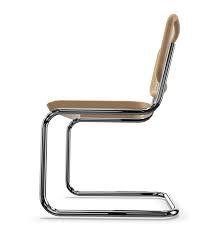chair: (24, 8, 185, 221)
